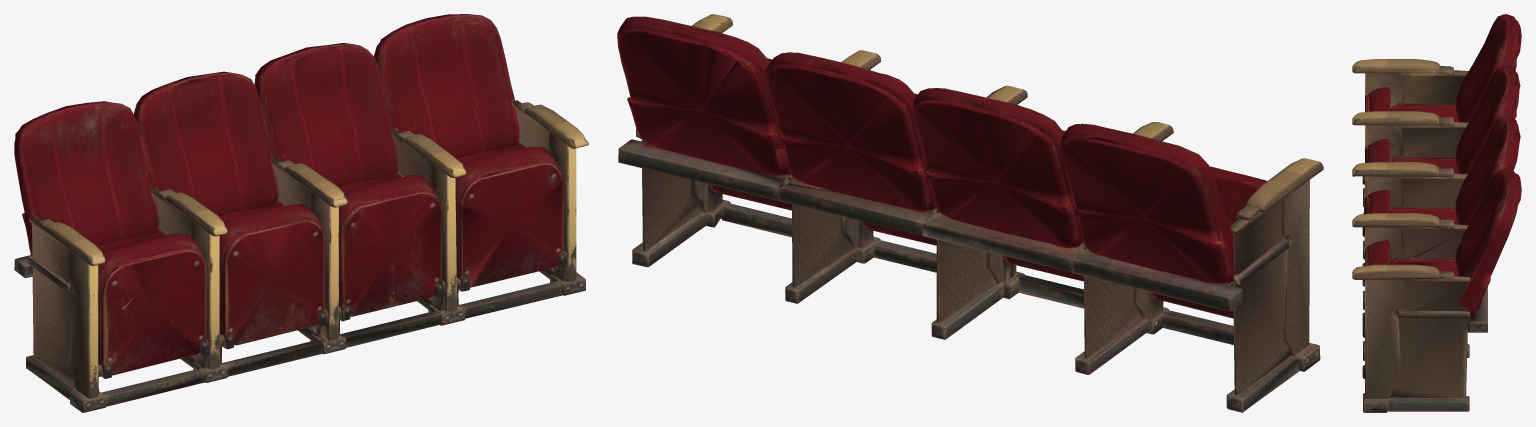
Rendered from skyways-d-cn-seats.glb.
3 renders of one model, left to right at view 1: azimuth 30°, elevation 25°; view 2: azimuth 150°, elevation 25°; view 3: azimuth 270°, elevation 25°, orthographic. The views are drawn at different scales.
Visible parts, largest first — view 1: skyways-d-cn-seats; view 2: skyways-d-cn-seats; view 3: skyways-d-cn-seats.
Boxes of the visible parts, <box> form: skyways-d-cn-seats: <box>14,14,588,412</box>; skyways-d-cn-seats: <box>617,14,1323,412</box>; skyways-d-cn-seats: <box>1352,14,1521,412</box>.
Size of the model in its own units: 2.4 by 1.04 by 0.7992.
Materials: 1 (1 with a texture image).
